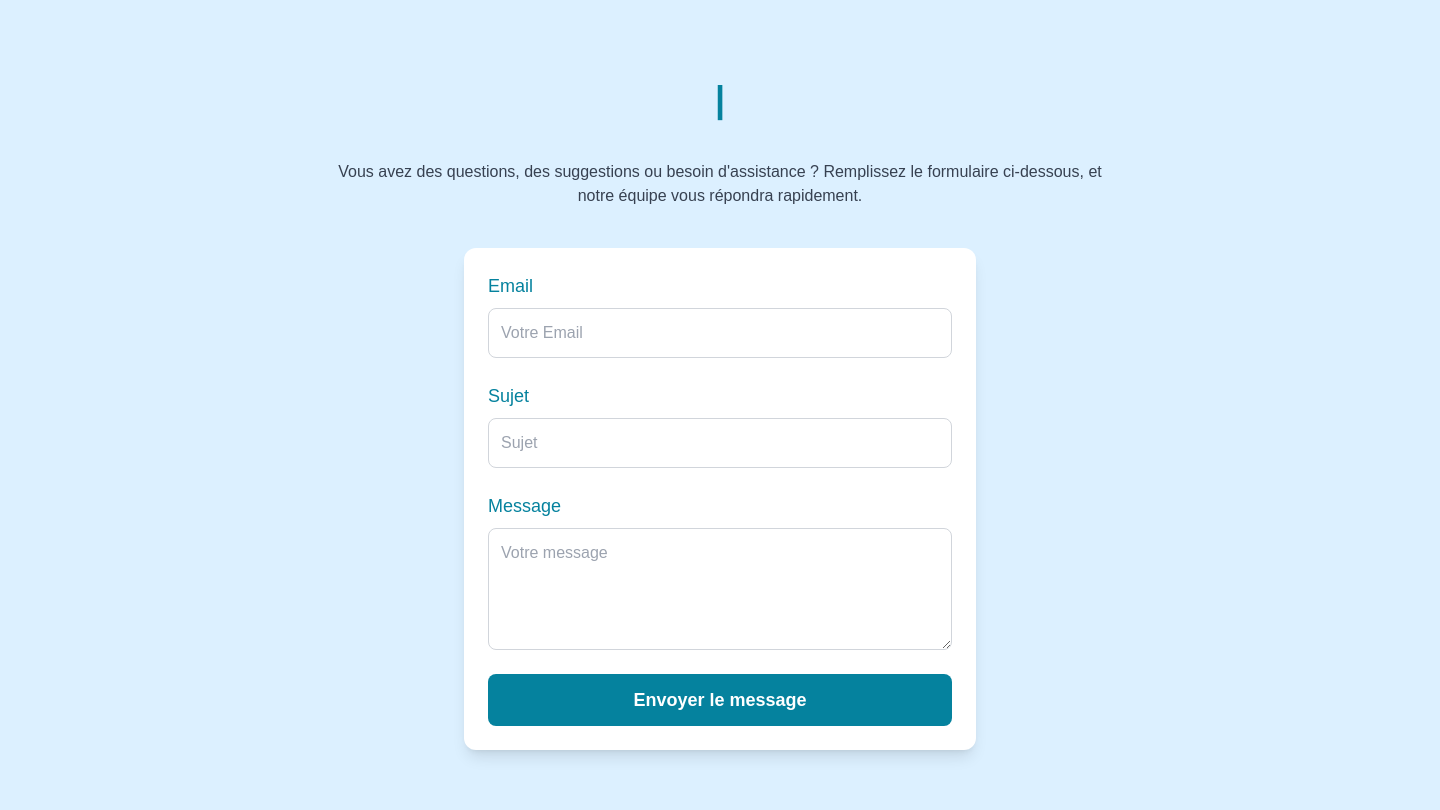
Test: Contact Component › gère une erreur d'envoi et affiche un message d'erreur
Type "test@example.com" into the field labelled "Email" at coordinates (720, 333), box x1=488 y1=308 x2=952 y2=358
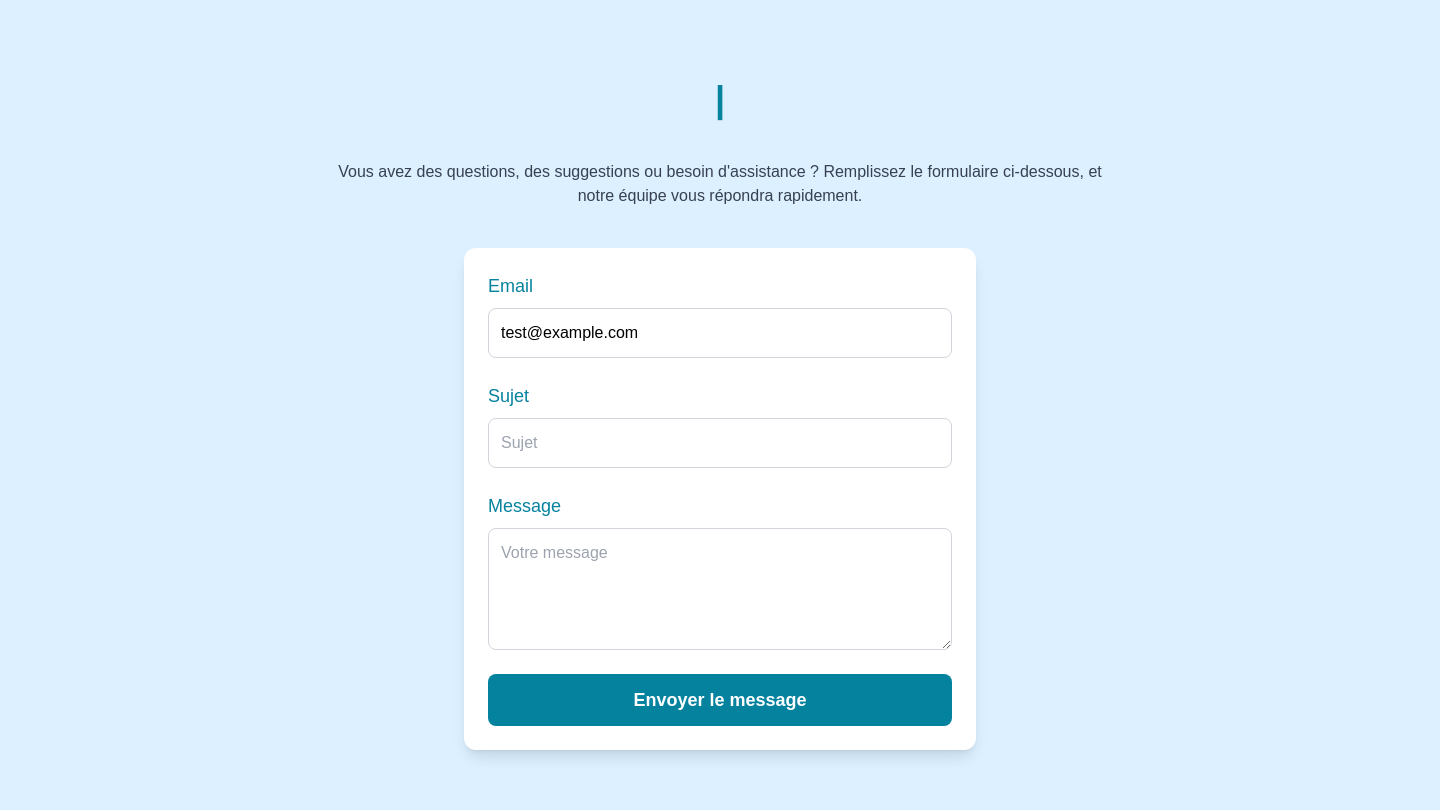
Type "Erreur test" into the field labelled "Sujet" at coordinates (720, 443), box x1=488 y1=418 x2=952 y2=468
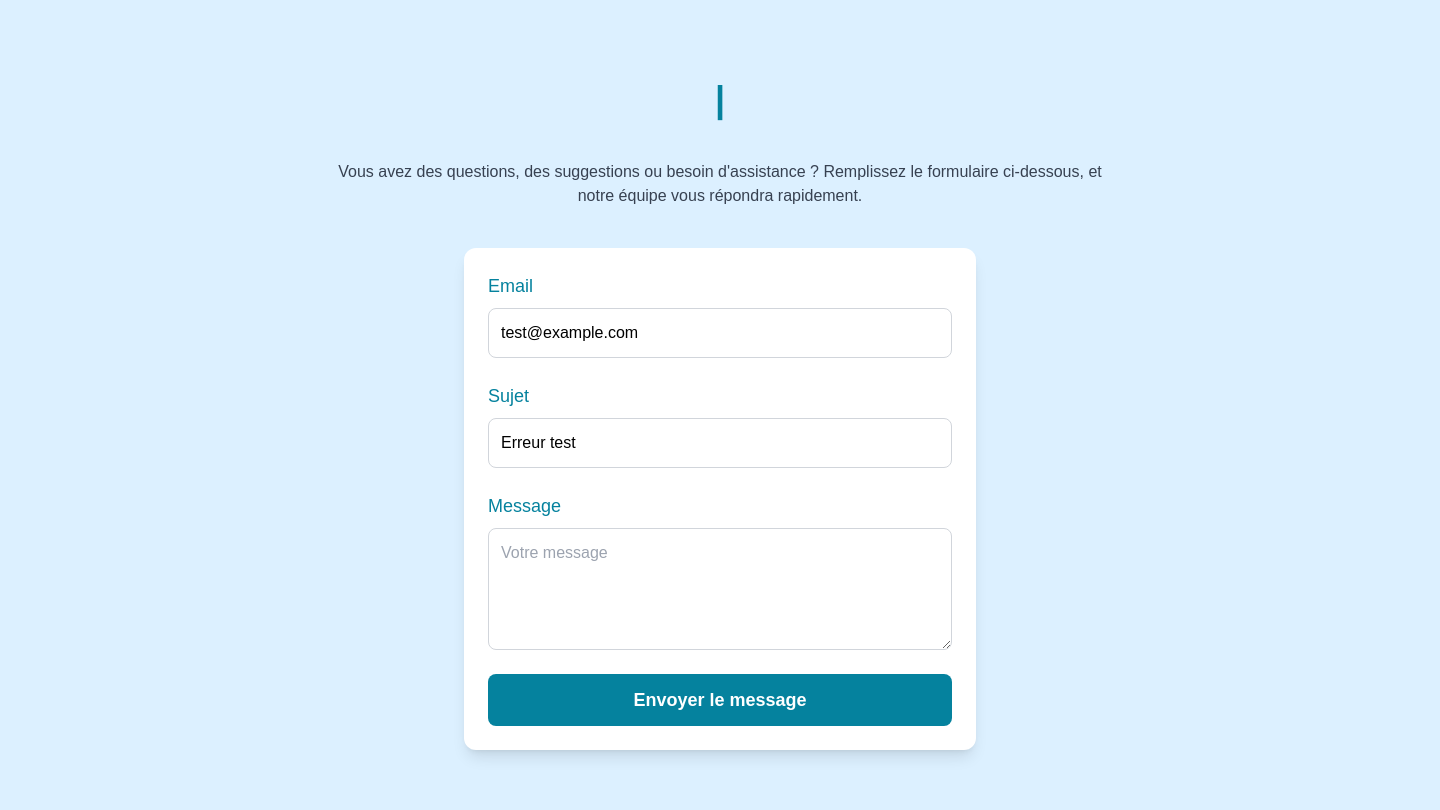
Type "Message qui ne passe pas." into the text box labelled "Message" at coordinates (720, 589), box x1=488 y1=528 x2=952 y2=650
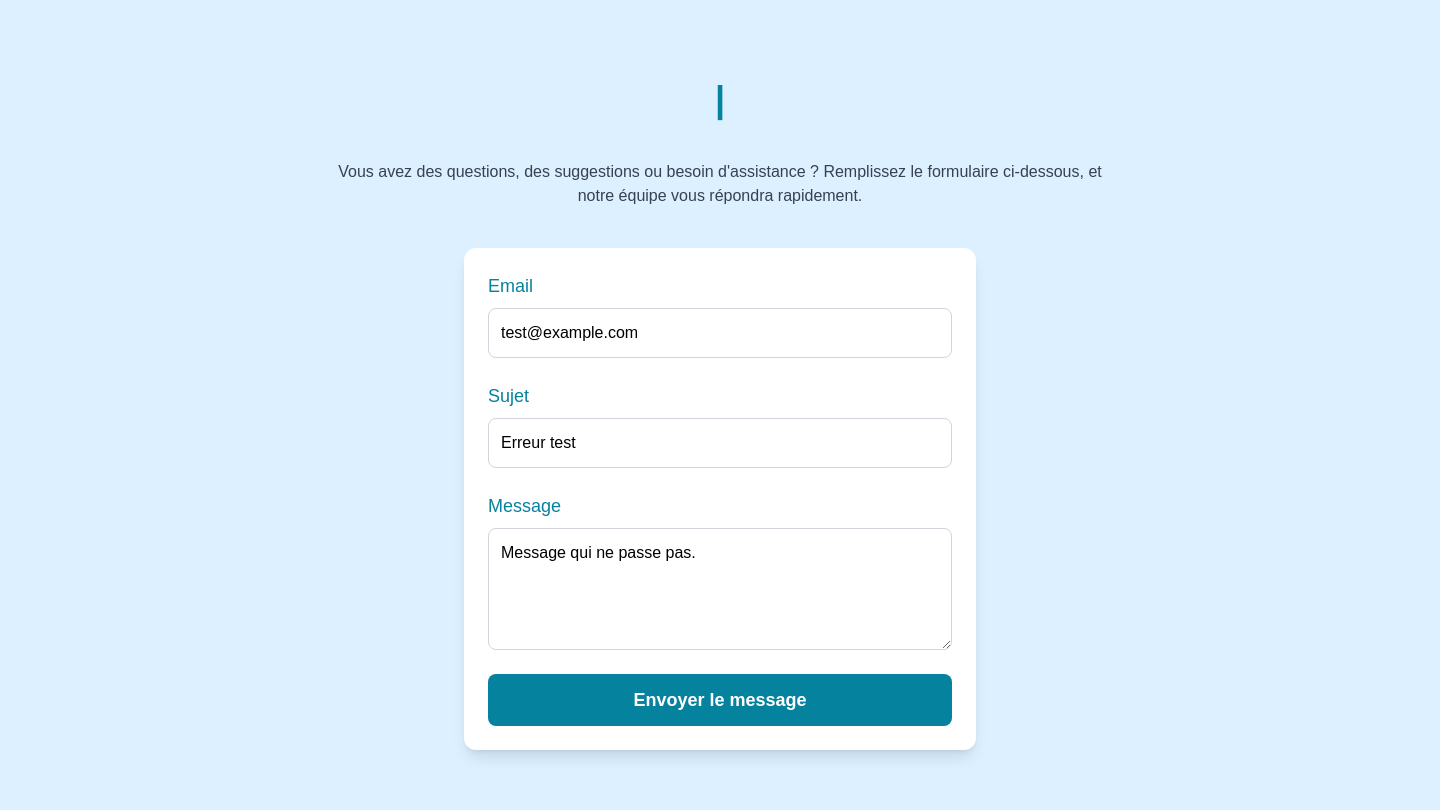
Click the button "Envoyer le message" at coordinates (720, 700), box x1=488 y1=674 x2=952 y2=726
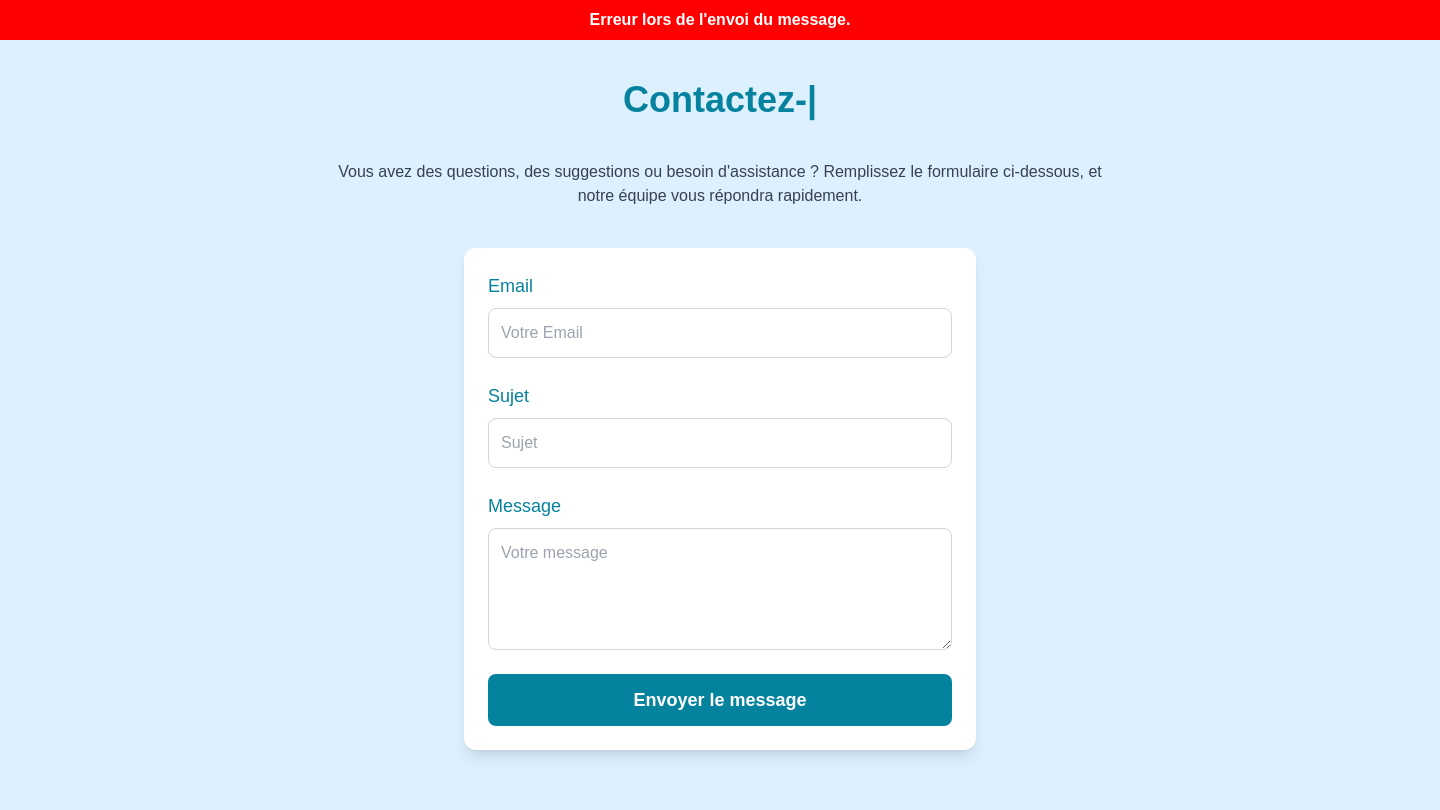
Result: the text "Erreur lors de l'envoi du message." is shown at x1=590 y1=11 x2=850 y2=28
